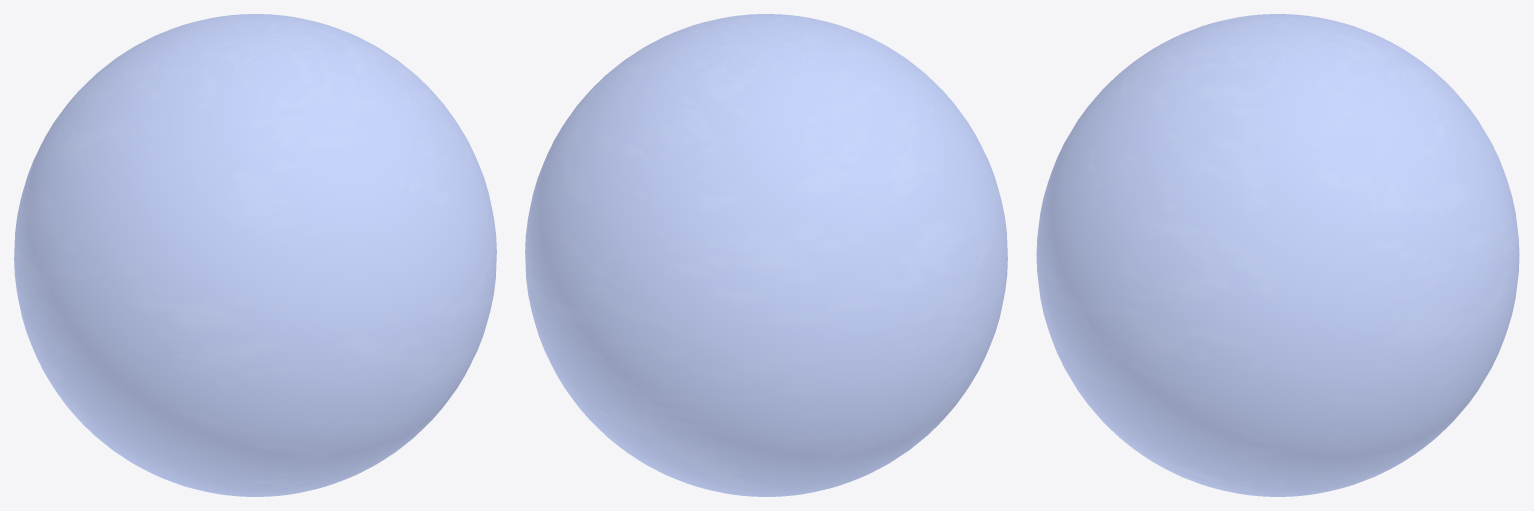
File: Earth.gltf
The picture shows the model from 3 angles, left to right: view 1: azimuth 30°, elevation 25°; view 2: azimuth 150°, elevation 25°; view 3: azimuth 270°, elevation 25°; orthographic projection.
Parts seen in each view (by area): view 1: Earth_Clouds_010; view 2: Earth_Clouds_010; view 3: Earth_Clouds_010.
Boxes of the visible parts, <box> form: Earth_Clouds_010: <box>14,14,496,496</box>; Earth_Clouds_010: <box>525,14,1007,496</box>; Earth_Clouds_010: <box>1036,14,1519,496</box>.
Size of the model in its own units: 21.5 by 21.5 by 21.5.
Materials: 2 (2 with a texture image).
